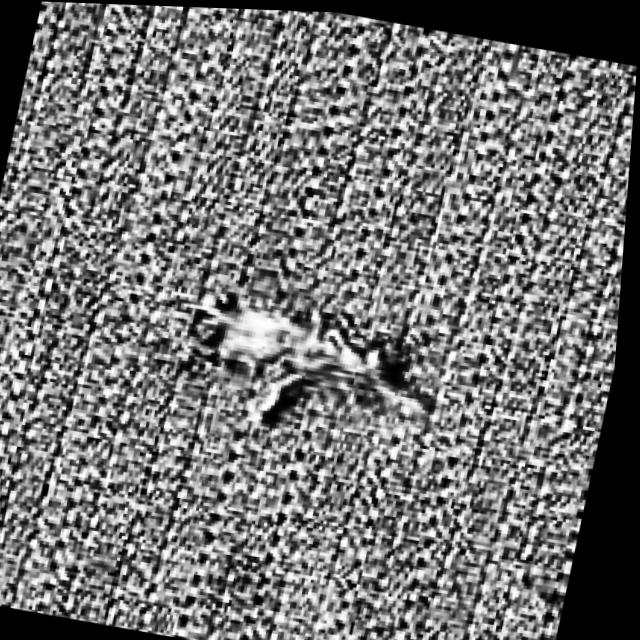Hole: (138, 249, 488, 497)
